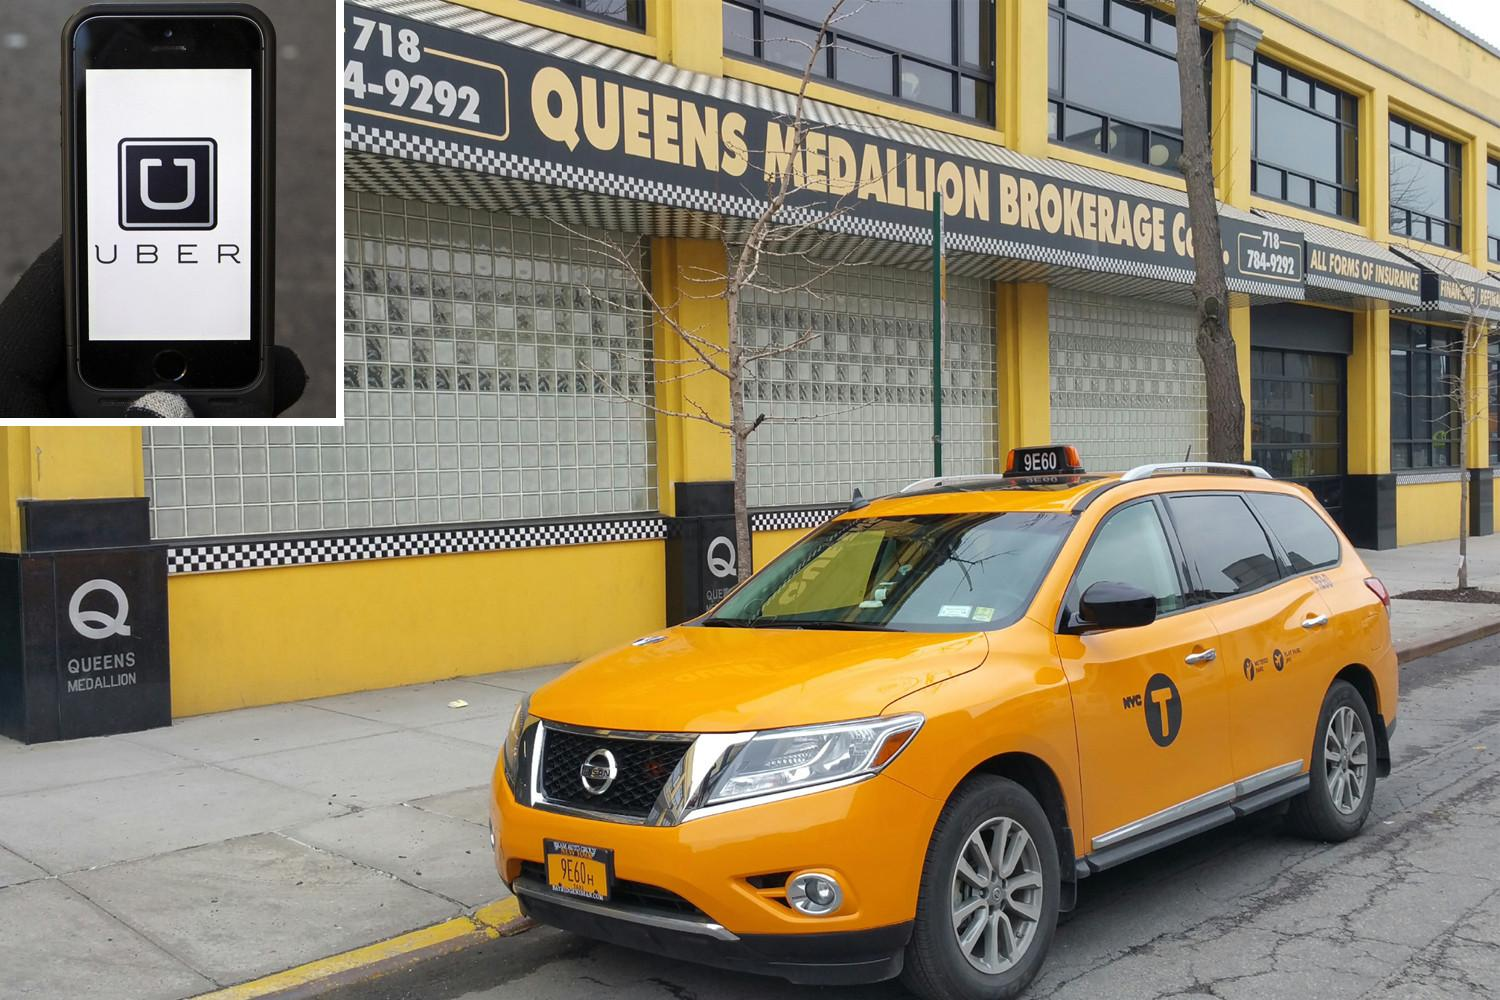taxi: (463, 413, 1475, 956)
